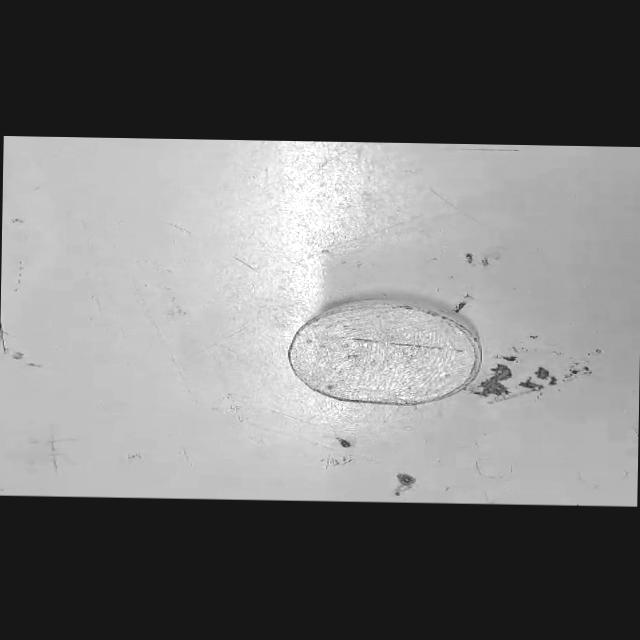ycircle: (288, 300, 482, 406)
